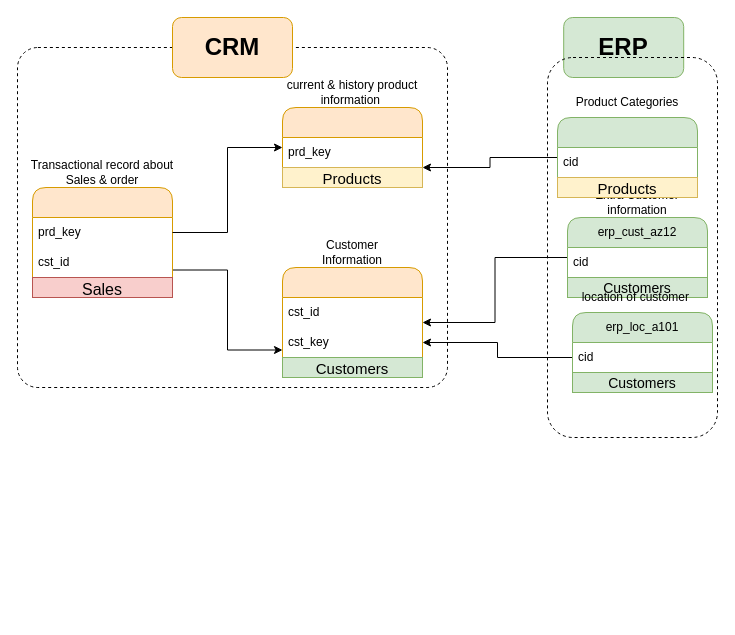
Image size: 735x635. Some labels were removed from this diagram. Here are the shapes that lost their labels. From the top down, the box of each, then its label:
(282, 106, 422, 188): crm_prd_info
(556, 116, 698, 198): erp_px_ct_g1v2
(32, 186, 172, 298): crm_sales_details
(282, 266, 422, 378): crm_cust_info
